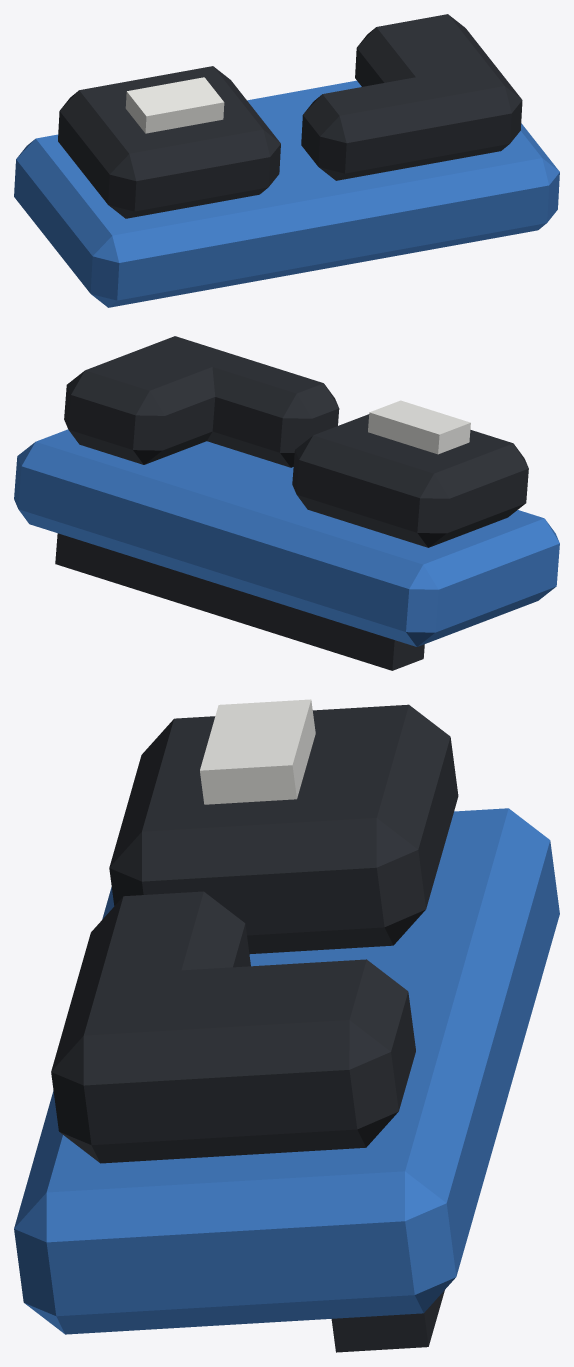
File: quickreply_m1_1.glb
The picture shows the model from 3 angles, top to bottom: view 1: azimuth 30°, elevation 25°; view 2: azimuth 150°, elevation 25°; view 3: azimuth 270°, elevation 25°; orthographic projection. The views are drawn at different scales.
Parts seen in each view (by area): view 1: quickreply_m1_1_mesh; view 2: quickreply_m1_1_mesh; view 3: quickreply_m1_1_mesh.
Boxes of the visible parts, <box> form: quickreply_m1_1_mesh: <box>14,14,559,307</box>; quickreply_m1_1_mesh: <box>14,336,559,670</box>; quickreply_m1_1_mesh: <box>14,699,559,1352</box>.
Size of the model in its own units: 0.312 by 0.1237 by 0.1741.
